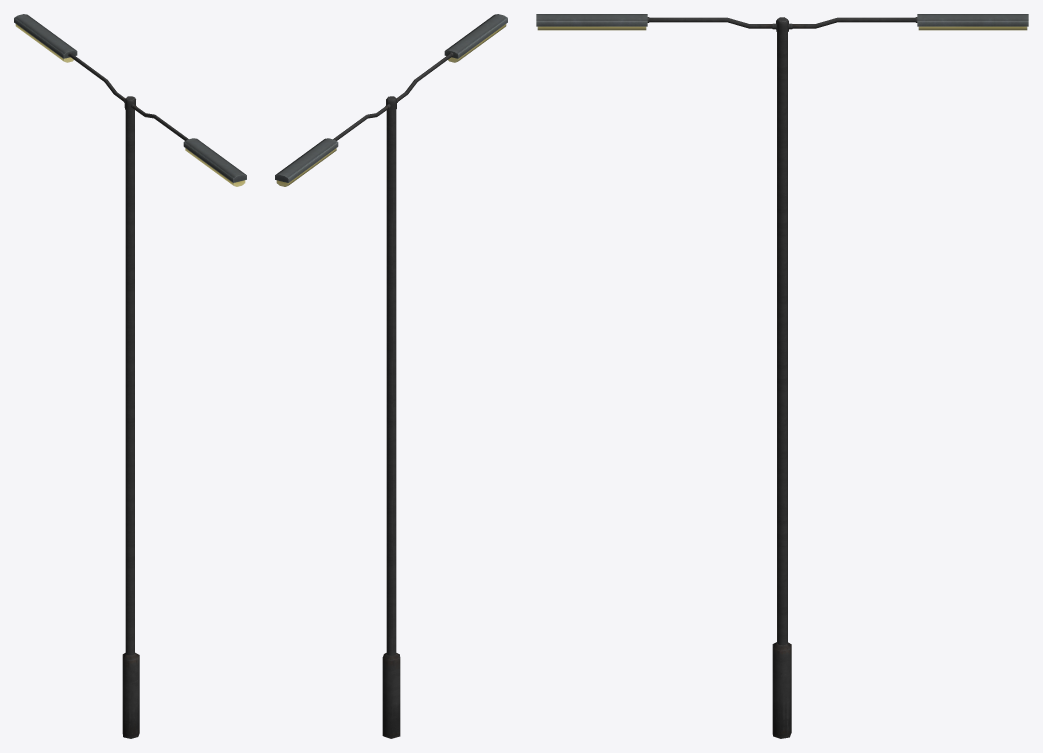
File: Overhanging_Street_and_Sidewalk_-_Light_on.glb
3 renders of one model, left to right at view 1: azimuth 30°, elevation 25°; view 2: azimuth 150°, elevation 25°; view 3: azimuth 270°, elevation 25°, orthographic. The views are drawn at different scales.
Parts seen in each view (by area): view 1: Overhanging_Street_And_Sidewalk_Light_On__LOD3; view 2: Overhanging_Street_And_Sidewalk_Light_On__LOD3; view 3: Overhanging_Street_And_Sidewalk_Light_On__LOD3.
Part boxes in pixels (box(x1,y1,x2,y2)): Overhanging_Street_And_Sidewalk_Light_On__LOD3: box(14, 14, 246, 738); Overhanging_Street_And_Sidewalk_Light_On__LOD3: box(275, 14, 507, 738); Overhanging_Street_And_Sidewalk_Light_On__LOD3: box(536, 14, 1028, 738).
Bounding box in the file's own units: 0.2024 × 7.55 × 4.69.
Materials: 1 (1 with a texture image).
